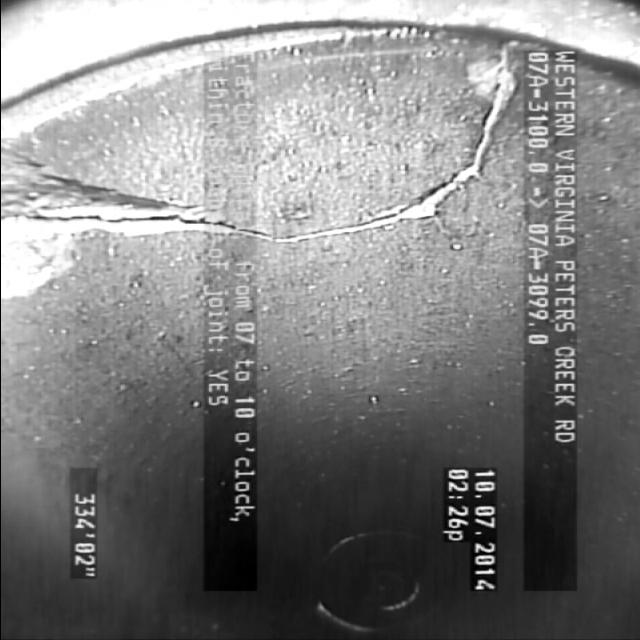Fracture: (63, 97, 503, 298)
